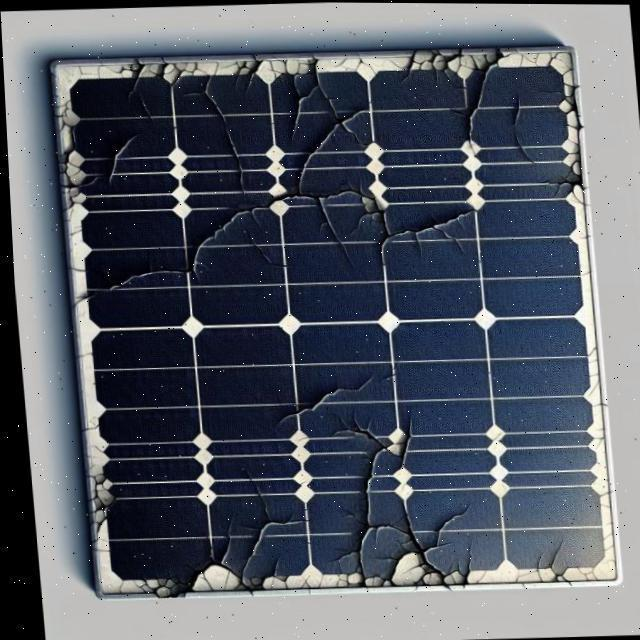Anomaly Solar Panel: (50, 50, 608, 597)
Structural Damage: (175, 179, 325, 278), (288, 101, 367, 186), (234, 508, 298, 601), (302, 181, 369, 265), (337, 515, 400, 590), (306, 61, 357, 147), (208, 97, 249, 198), (370, 214, 428, 268), (349, 443, 386, 522), (433, 206, 488, 257), (464, 61, 493, 155), (394, 511, 432, 579), (101, 266, 188, 292), (242, 232, 284, 273), (211, 517, 233, 584), (238, 464, 264, 519), (292, 84, 316, 140), (507, 102, 529, 163), (107, 136, 131, 182), (544, 542, 564, 584), (350, 211, 386, 234), (278, 403, 314, 424), (338, 377, 370, 398), (336, 428, 376, 444), (128, 64, 145, 94), (416, 535, 438, 558), (338, 511, 359, 533), (432, 514, 452, 537), (135, 94, 151, 122), (311, 388, 338, 403), (332, 550, 348, 575), (71, 294, 91, 306), (404, 55, 414, 79), (452, 505, 466, 520), (395, 443, 401, 470), (531, 551, 536, 580), (76, 350, 89, 360), (401, 420, 406, 443), (462, 545, 467, 563), (68, 268, 83, 272), (81, 425, 93, 430), (461, 563, 464, 581), (114, 581, 118, 591)
